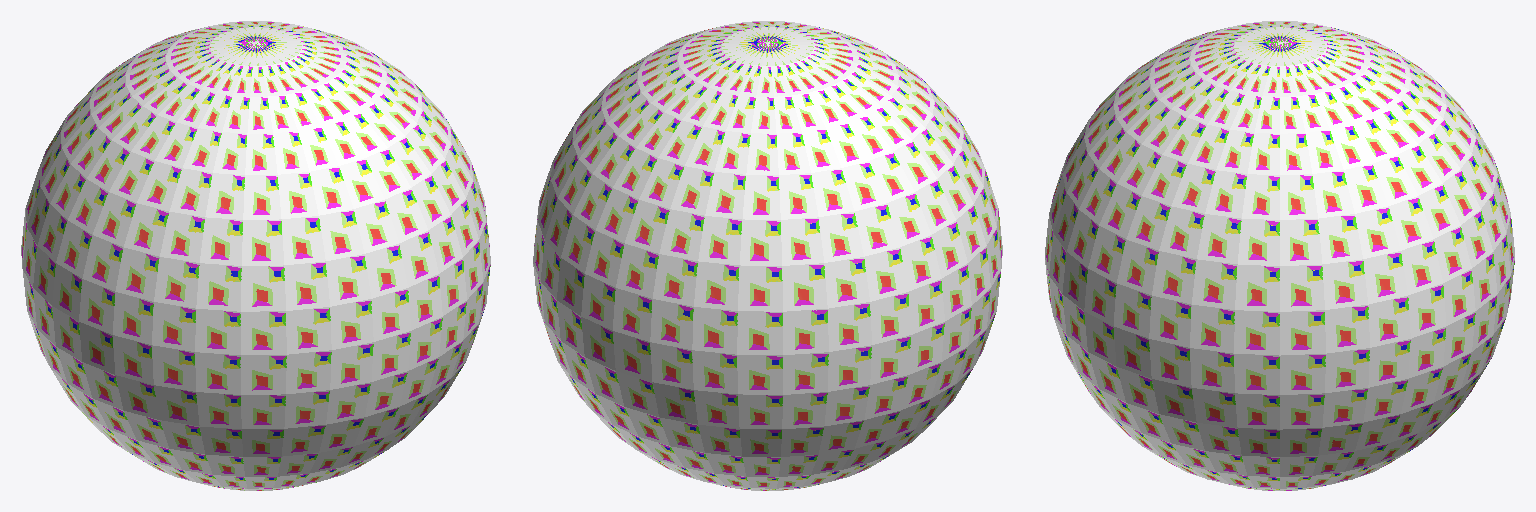
3 views of the same model, side by side, from view 1: azimuth 30°, elevation 25°; view 2: azimuth 150°, elevation 25°; view 3: azimuth 270°, elevation 25° (orthographic).
Visible parts, largest first — view 1: Sphere; view 2: Sphere; view 3: Sphere.
Boxes of the visible parts, <box> form: Sphere: <box>21,21,490,490</box>; Sphere: <box>533,21,1002,490</box>; Sphere: <box>1045,21,1514,490</box>.
Bounding box in the file's own units: 1 × 1 × 1.
1 materials, 1 textured.